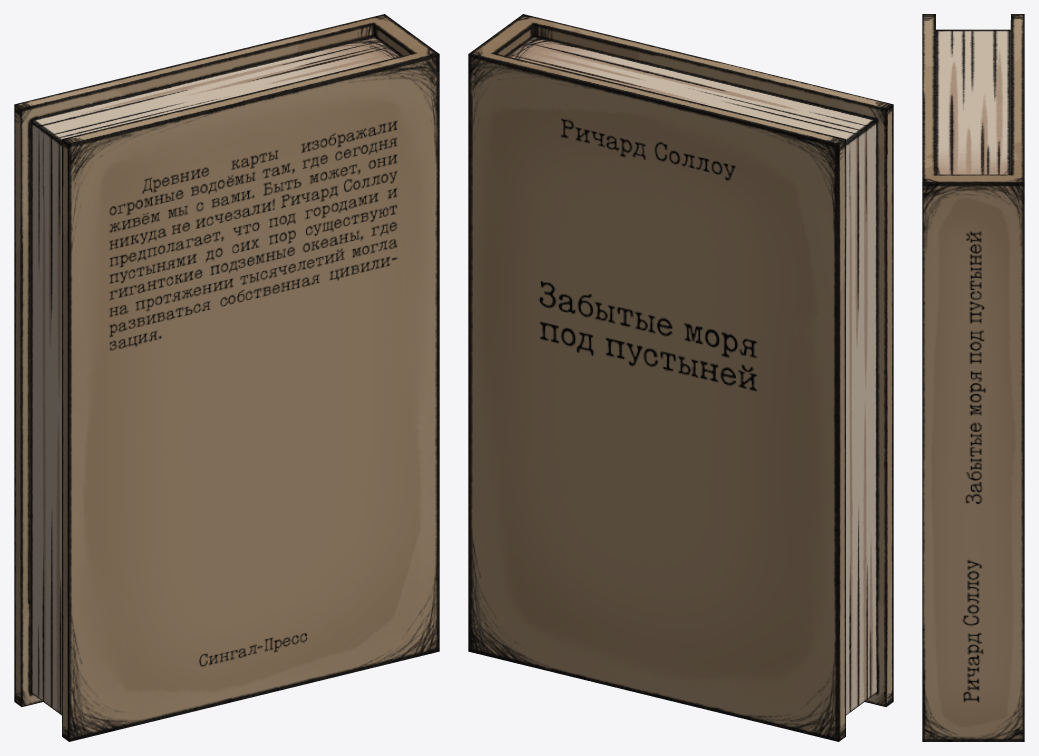
Rendered from book_4.fbx.
The picture shows the model from 3 angles, left to right: view 1: azimuth 30°, elevation 25°; view 2: azimuth 150°, elevation 25°; view 3: azimuth 270°, elevation 25°; orthographic projection. The views are drawn at different scales.
Visible parts, largest first — view 1: book_1; view 2: book_1; view 3: book_1.
Boxes of the visible parts, x1,y1,x2,y2 form: book_1: (14,14,439,741); book_1: (468,14,893,741); book_1: (922,14,1024,741).
Bounding box in the file's own units: 29.92 × 46.11 × 7.66.
1 material, 1 textured.
